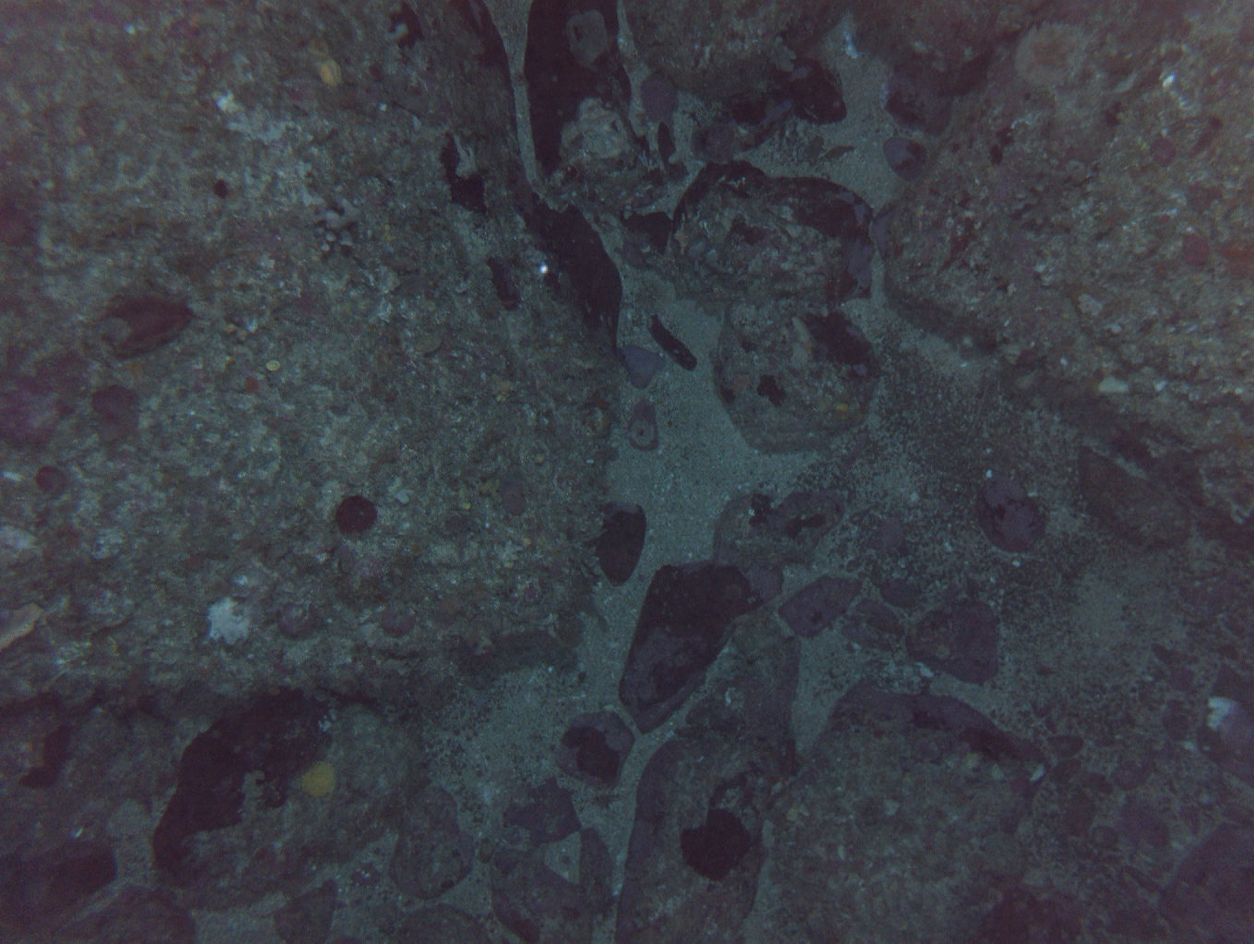Brachionichthyidae: (770, 738, 807, 789)
